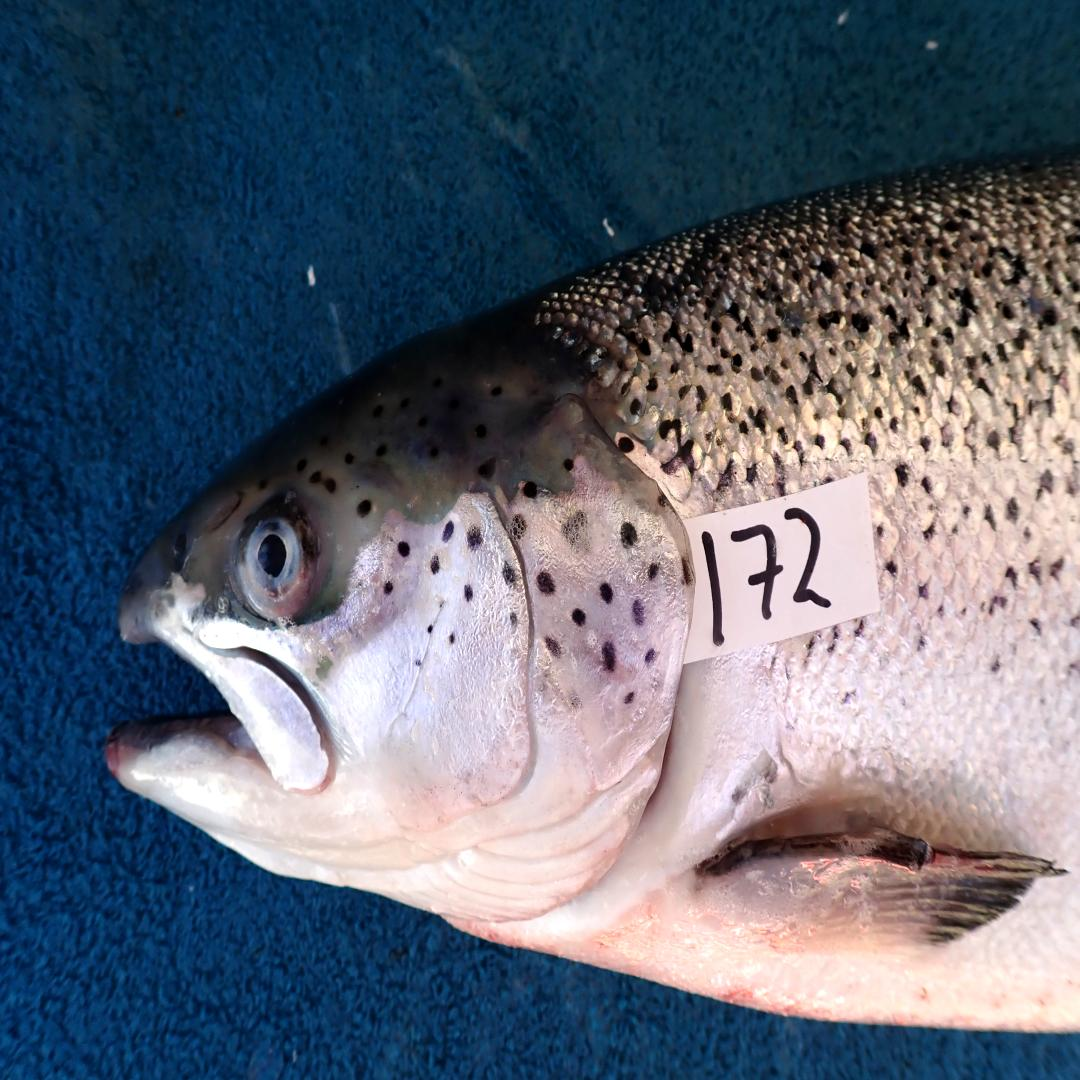roi: (324, 458, 696, 933)
